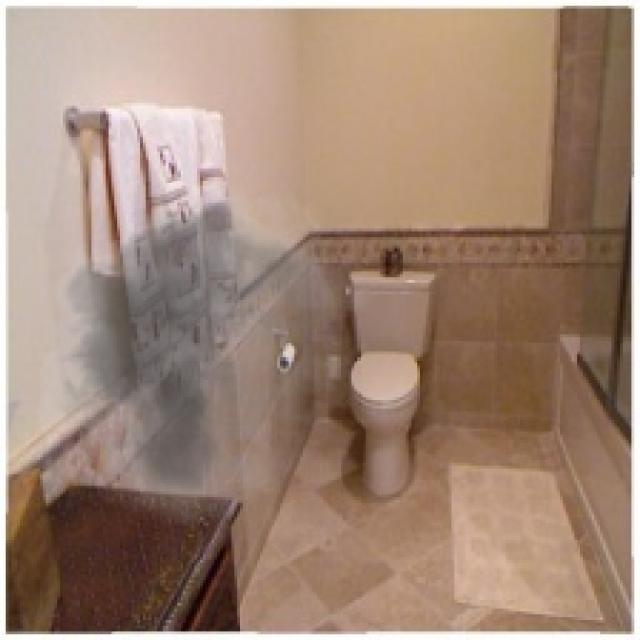Smoke: (20, 174, 380, 526)
